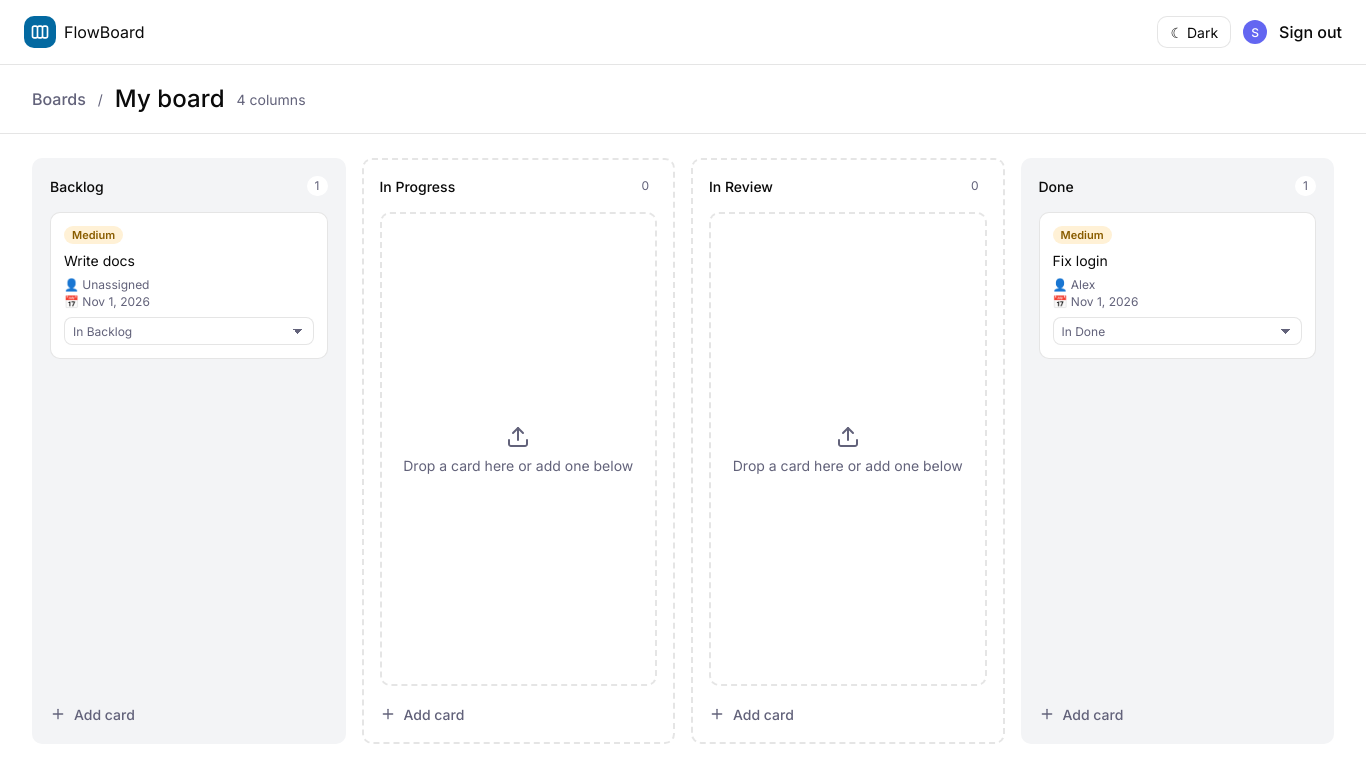
Test: card dialog › closes on Escape and returns focus to the control that opened it
Click the button "Write docs" at x=189, y=260, box [64,252,314,269]
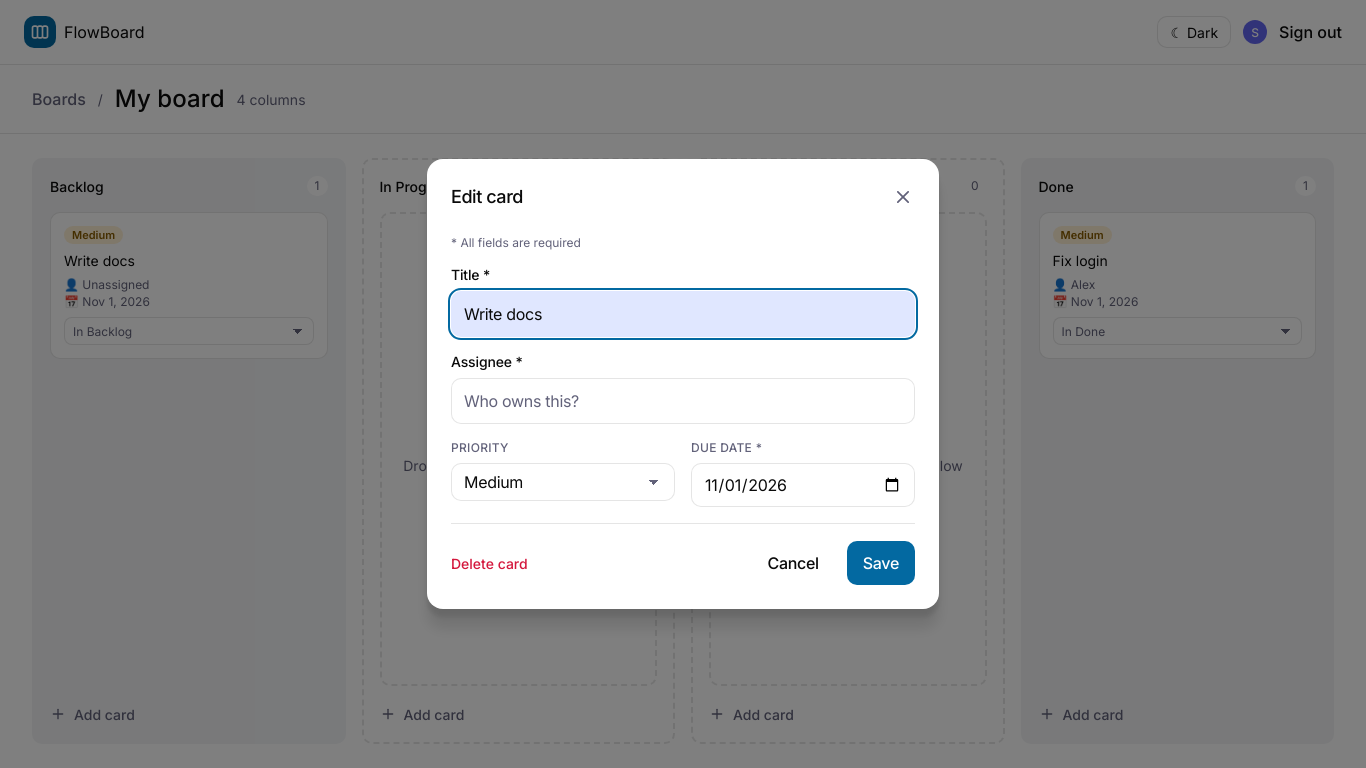
Press Escape
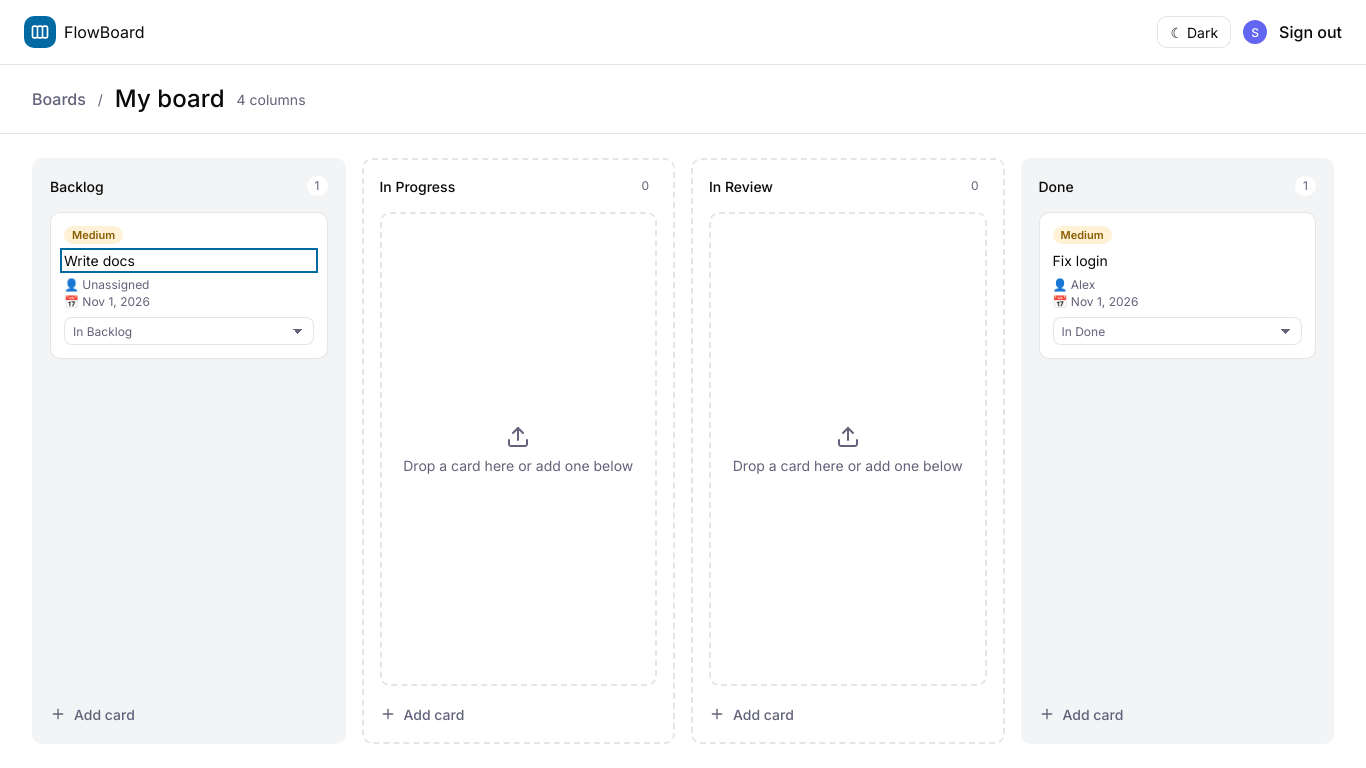
expect the dialog is gone: met
